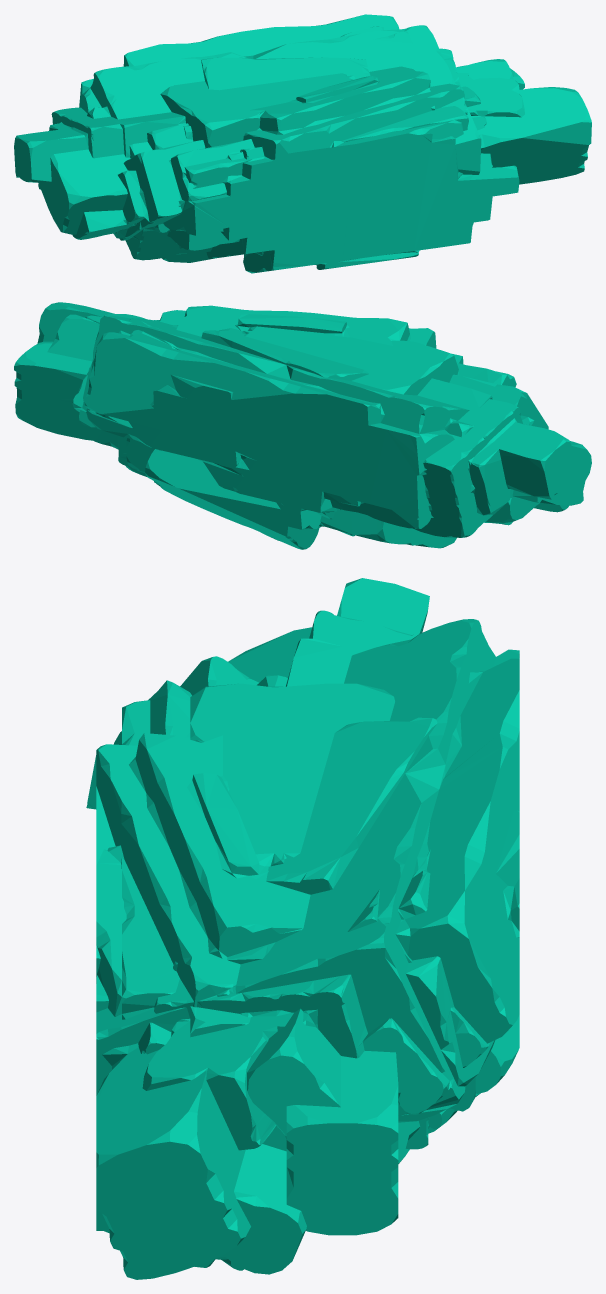
Rendered from rock_01.fbx.
3 views of the same model, one above another, from view 1: azimuth 30°, elevation 25°; view 2: azimuth 150°, elevation 25°; view 3: azimuth 270°, elevation 25° (orthographic). The views are drawn at different scales.
Visible parts, largest first — view 1: rock_01; view 2: rock_01; view 3: rock_01.
Boxes of the visible parts, <box> form: rock_01: <box>14,14,591,273</box>; rock_01: <box>14,302,591,549</box>; rock_01: <box>86,578,519,1279</box>.
Bounding box in the file's own units: 836 × 303 × 309.
